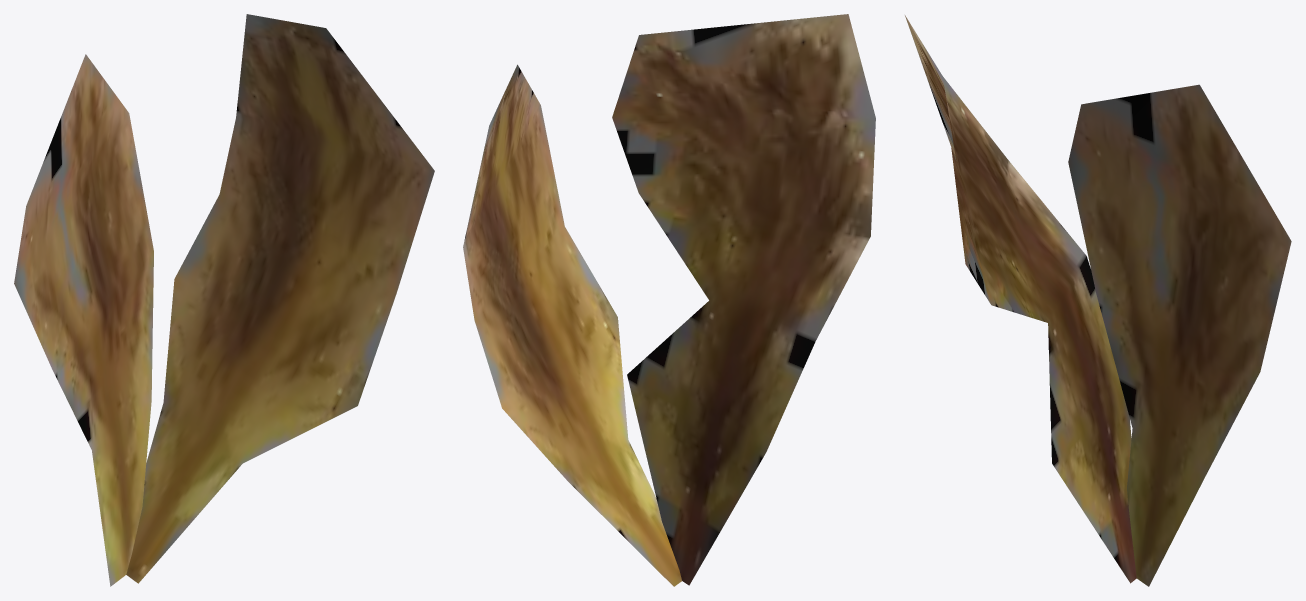
Rendered from Seaweed_D3-transformed.glb.
The picture shows the model from 3 angles, left to right: view 1: azimuth 30°, elevation 25°; view 2: azimuth 150°, elevation 25°; view 3: azimuth 270°, elevation 25°; orthographic projection. The views are drawn at different scales.
Visible parts, largest first — view 1: Seaweed_D3; view 2: Seaweed_D3; view 3: Seaweed_D3.
Boxes of the visible parts, x1,y1,x2,y2 form: Seaweed_D3: (14,14,434,586); Seaweed_D3: (463,14,875,586); Seaweed_D3: (905,15,1291,586).
Bounding box in the file's own units: 0.5407 × 0.7453 × 0.4888.
1 material, 1 textured.
